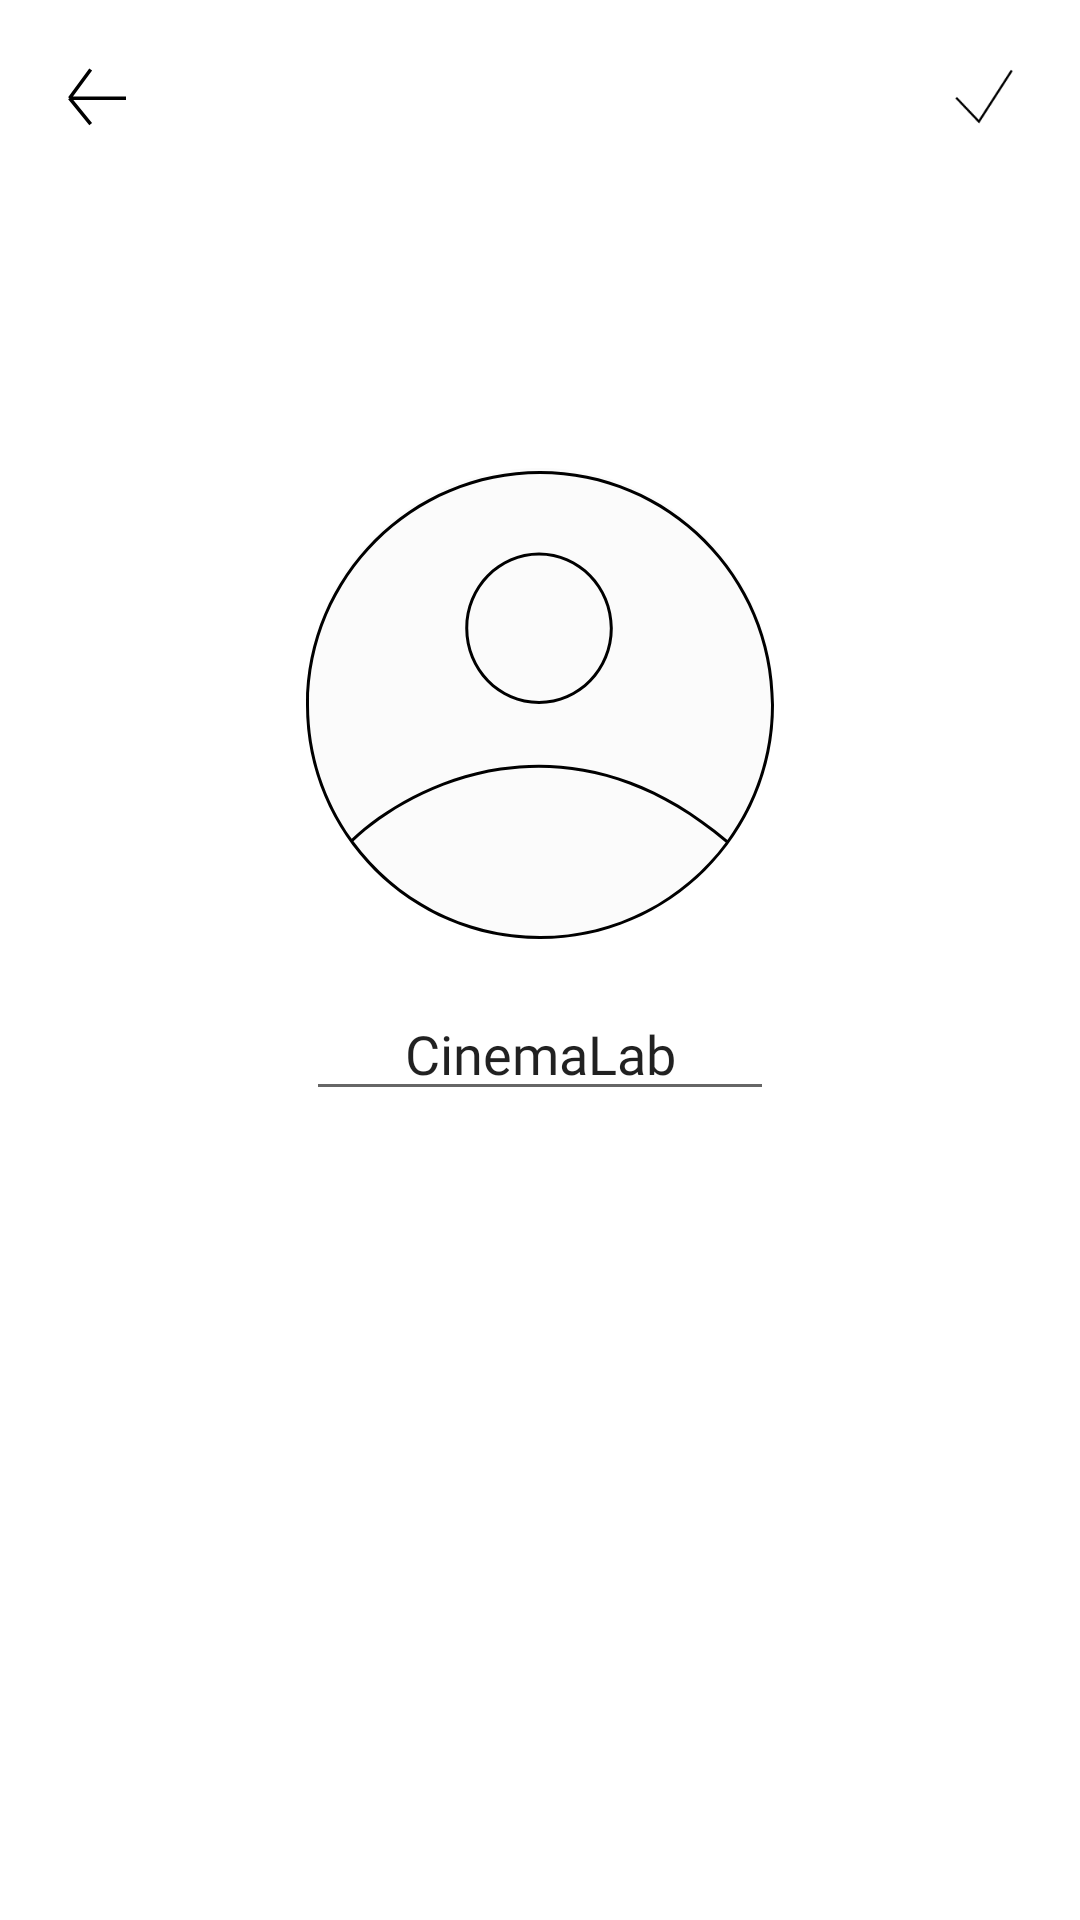

Point at icon controls on the screen. Image size 1080w x 1920h, points as [x,y].
back arrow: [97,96]
done: [984,97]
